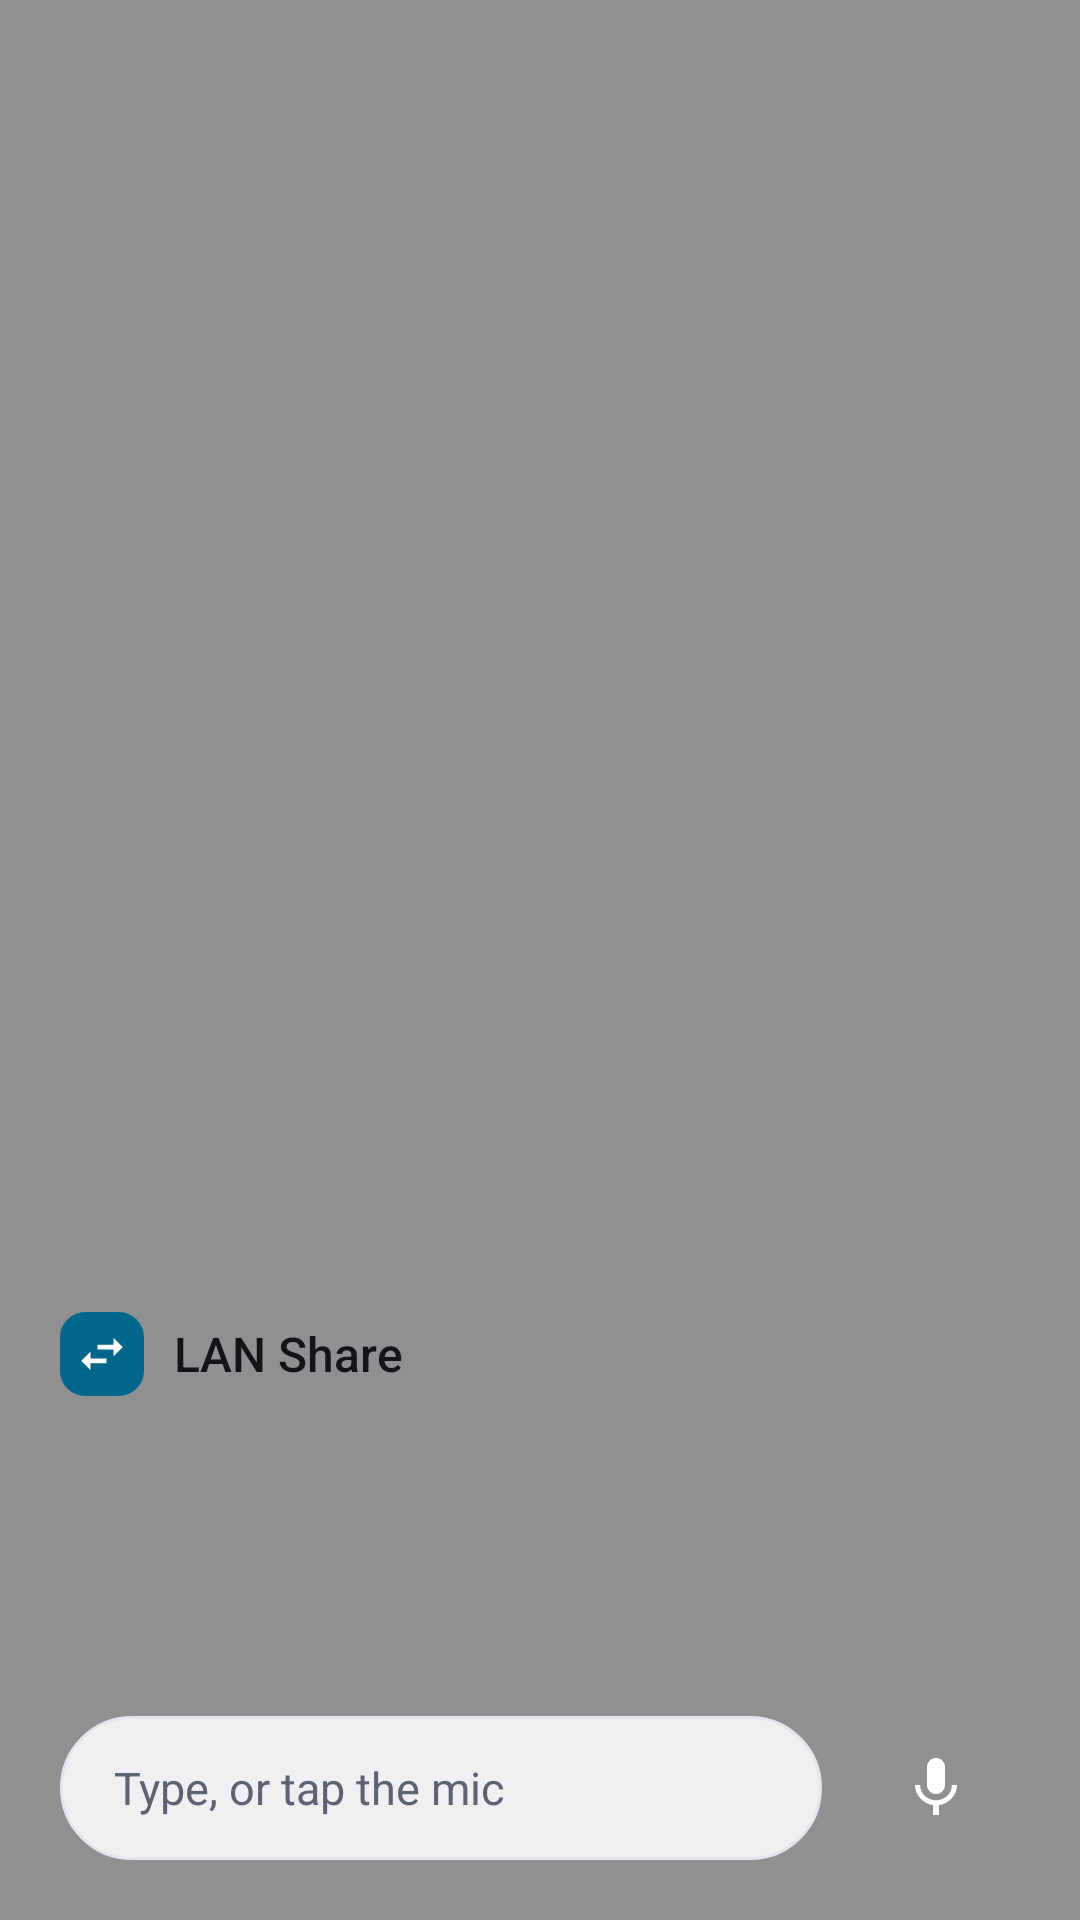

Icons on this 1080×1920 Android screen, each with its box as BBox(x1, y1, x2, y2):
Speak: BBox(915, 1758, 957, 1815)
